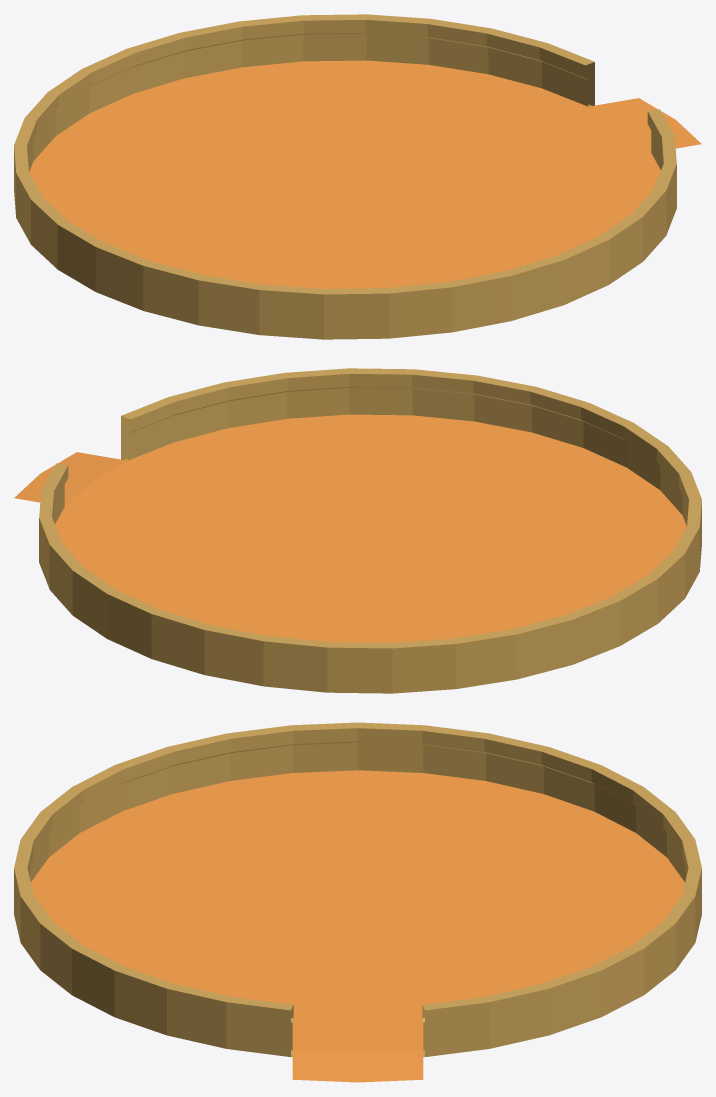
Rendered from Wall-Ground.fbx.
The picture shows the model from 3 angles, top to bottom: view 1: azimuth 30°, elevation 25°; view 2: azimuth 150°, elevation 25°; view 3: azimuth 270°, elevation 25°; orthographic projection. The views are drawn at different scales.
Visible parts, largest first — view 1: Wall-Ground; view 2: Wall-Ground; view 3: Wall-Ground.
Boxes of the visible parts, left/top/right/bottom form: Wall-Ground: left=14, top=14, right=701, bottom=339; Wall-Ground: left=14, top=368, right=701, bottom=693; Wall-Ground: left=14, top=722, right=701, bottom=1082.
Size of the model in its own units: 5204 by 409 by 4844.
